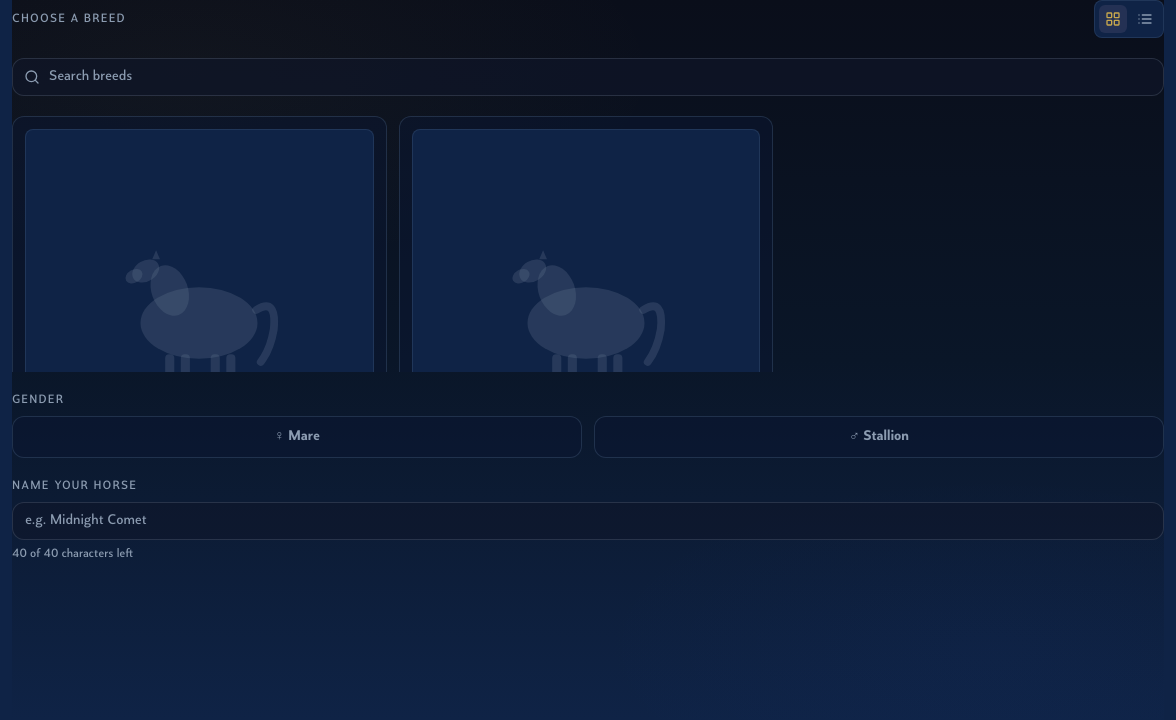
Scenario: BreedSelector › Search input (Equoria-4rz4b) › shows the empty-results panel + clear-search button when nothing matches
Type "no-such-breed-zzz" into the field with test id "breed-search-input". click: (588, 77)
box: [12,58,1164,96]
Wait 250 ms
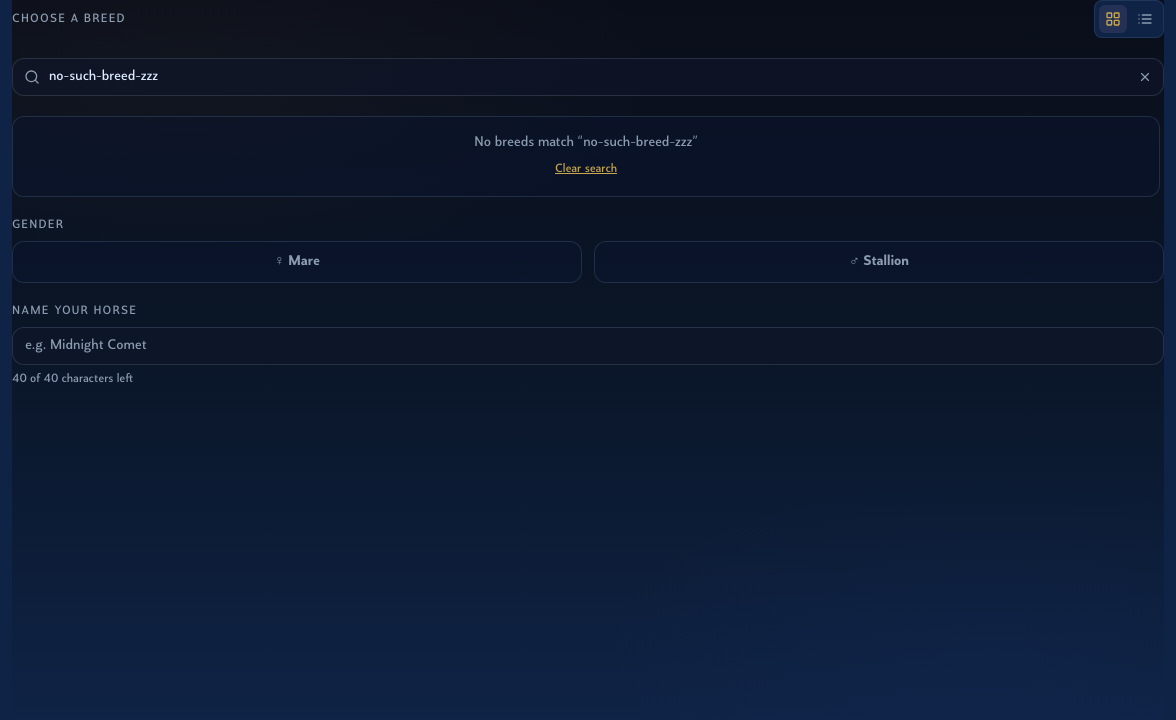
Expected: the element with test id "breed-search-empty" is shown, [12,116,1160,197]
Expected: the text "No breeds match “no-such-breed-zzz”" is shown, [474,135,698,150]
Expected: the button with test id "breed-search-clear-empty" is shown, [555,161,617,177]
